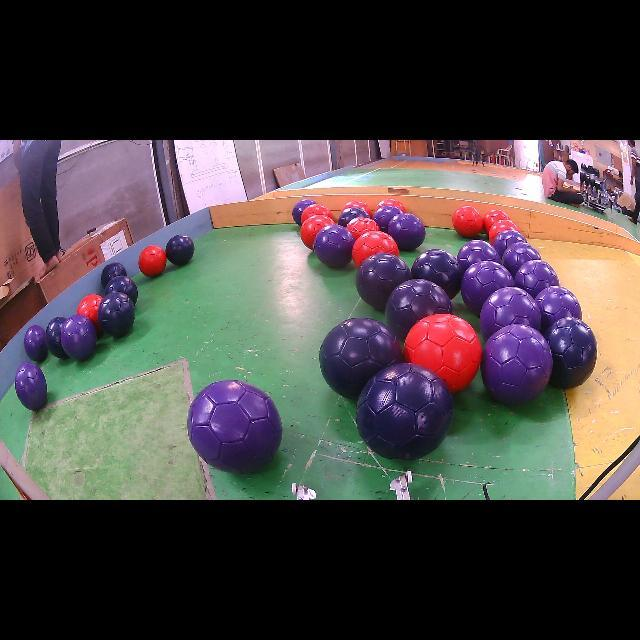B: (356, 362, 454, 459), (319, 318, 402, 399), (385, 279, 452, 341), (545, 318, 598, 389), (356, 252, 411, 310), (411, 249, 462, 299), (98, 291, 135, 338), (45, 316, 68, 359), (105, 276, 138, 305), (165, 235, 195, 265), (101, 262, 128, 289), (338, 208, 370, 227)
P: (188, 380, 282, 474), (481, 324, 552, 406), (480, 286, 541, 340), (461, 261, 514, 316), (535, 286, 582, 334), (312, 224, 355, 268), (514, 260, 559, 298), (61, 314, 96, 361), (15, 362, 48, 411), (388, 212, 426, 251), (501, 242, 541, 278), (458, 240, 501, 273), (492, 230, 528, 258), (24, 325, 48, 362), (372, 205, 402, 232), (292, 199, 316, 225)
